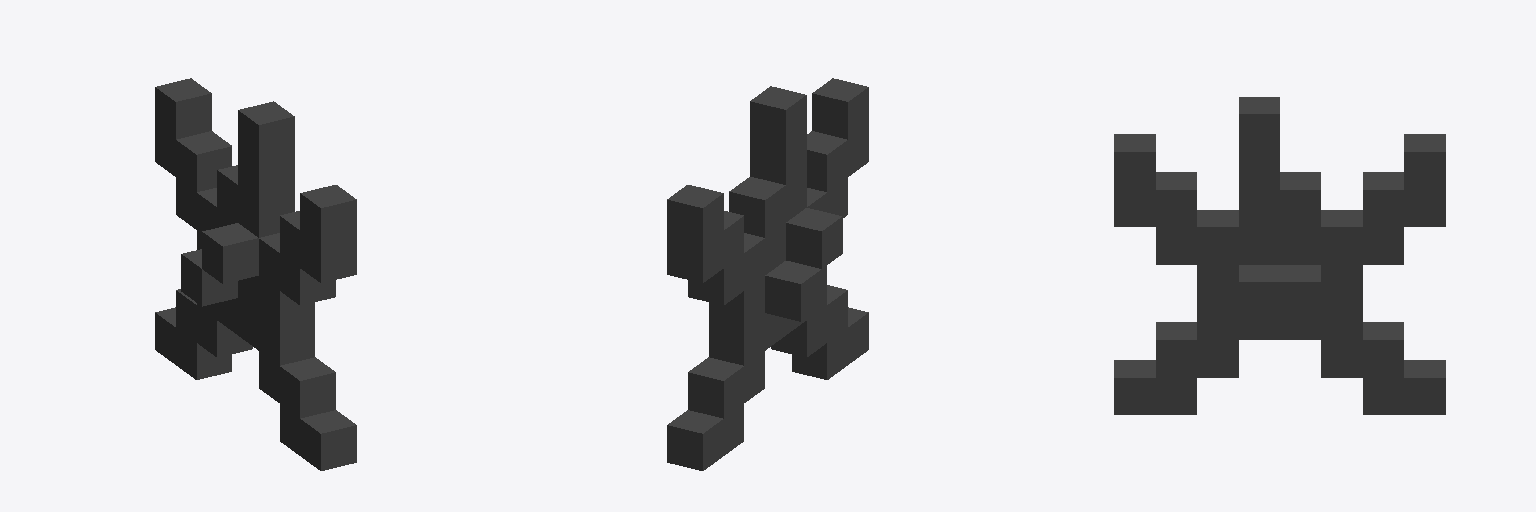
The picture shows the model from 3 angles: view 1: azimuth 30°, elevation 25°; view 2: azimuth 150°, elevation 25°; view 3: azimuth 270°, elevation 25°; orthographic projection.
Visible parts, largest first — view 1: object 1; view 2: object 1; view 3: object 1.
Boxes of the visible parts, x1=… form: object 1: x1=155, y1=78, x2=356, y2=470; object 1: x1=667, y1=78, x2=868, y2=470; object 1: x1=1114, y1=97, x2=1445, y2=414.
Bounding box in the file's own units: 0.3 × 0.8 × 0.8.
1 materials, 1 textured.